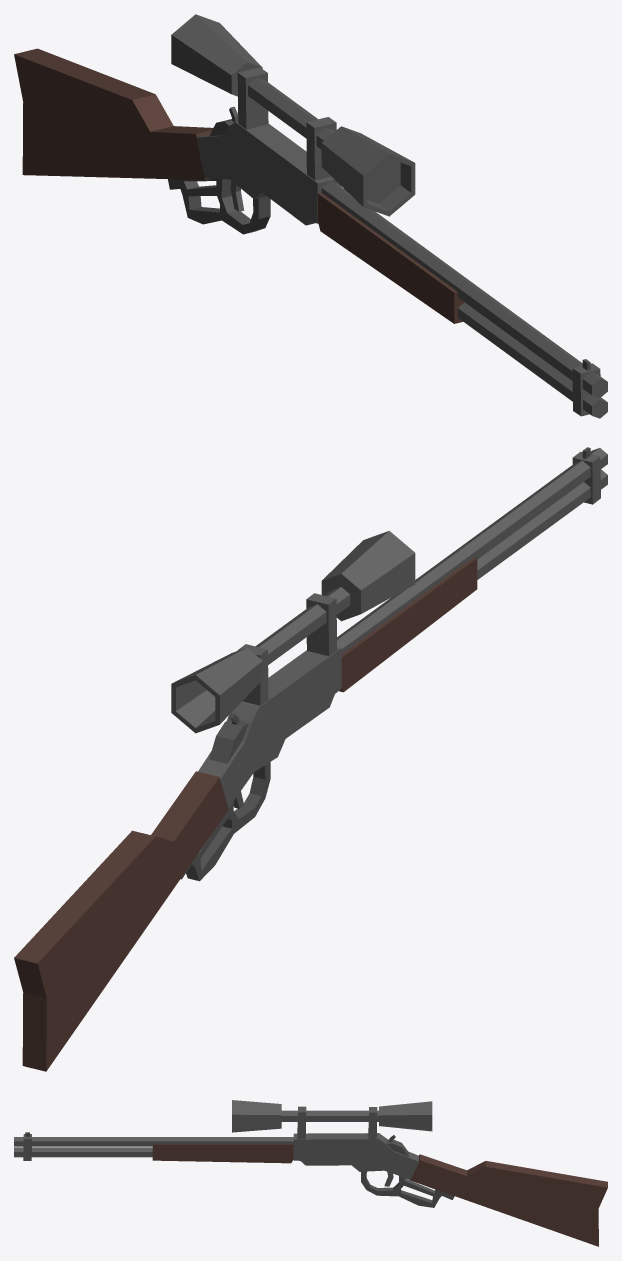
Rendered from Sniper.fbx.
3 renders of one model, top to bottom at view 1: azimuth 30°, elevation 25°; view 2: azimuth 150°, elevation 25°; view 3: azimuth 270°, elevation 25°, orthographic. The views are drawn at different scales.
Parts seen in each view (by area): view 1: Sniper; view 2: Sniper; view 3: Sniper.
Part boxes in pixels (bbox=[...]): Sniper: bbox=[14, 14, 607, 418]; Sniper: bbox=[14, 447, 607, 1071]; Sniper: bbox=[14, 1100, 607, 1246].
Bounding box in the file's own units: 95.86 × 489 × 1829.
